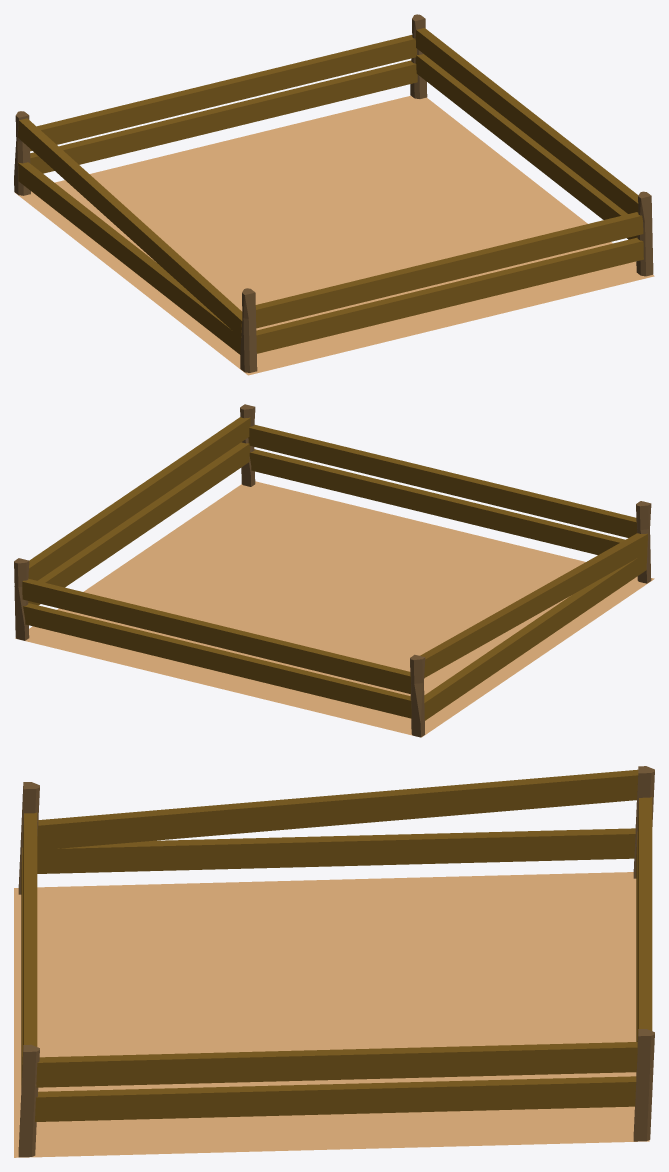
The model's file is playground.fbx.
3 views of the same model, one above another, from view 1: azimuth 30°, elevation 25°; view 2: azimuth 150°, elevation 25°; view 3: azimuth 270°, elevation 25° (orthographic). The views are drawn at different scales.
Parts seen in each view (by area): view 1: Cube.010; view 2: Cube.010; view 3: Cube.010.
Part boxes in pixels (x1=…): Cube.010: x1=14, y1=14, x2=654, y2=375; Cube.010: x1=14, y1=404, x2=654, y2=737; Cube.010: x1=14, y1=766, x2=654, y2=1157.
Bounding box in the file's own units: 961 × 203 × 964.
